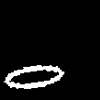chain: (5, 65, 63, 88)
